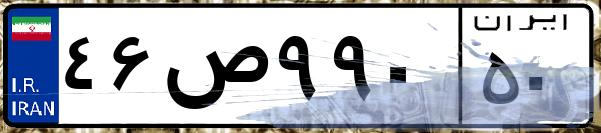0: (385, 28, 445, 110), (525, 38, 570, 115)
4: (57, 26, 110, 100)
5: (475, 38, 525, 113)
6: (110, 28, 158, 98)
9: (270, 28, 330, 110), (330, 28, 385, 110)
ص: (158, 20, 270, 120)
